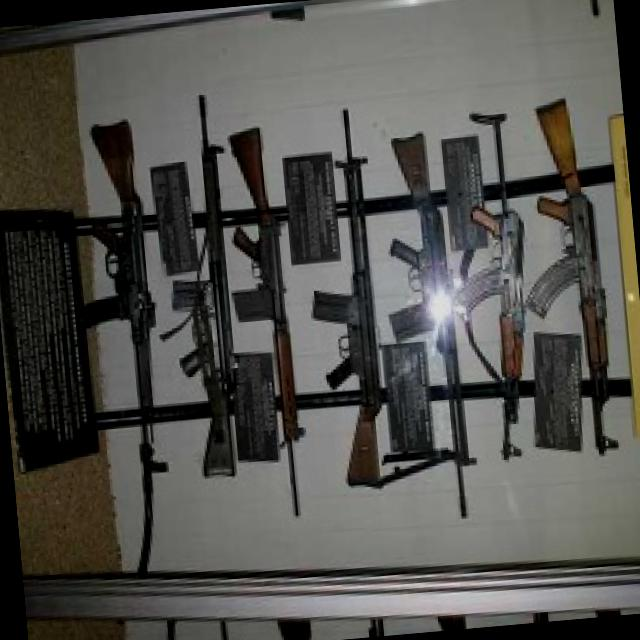long weapon: (45, 107, 194, 418), (364, 115, 502, 435), (304, 145, 424, 510), (452, 94, 564, 448), (216, 156, 340, 464), (520, 84, 626, 414), (158, 186, 276, 442)
